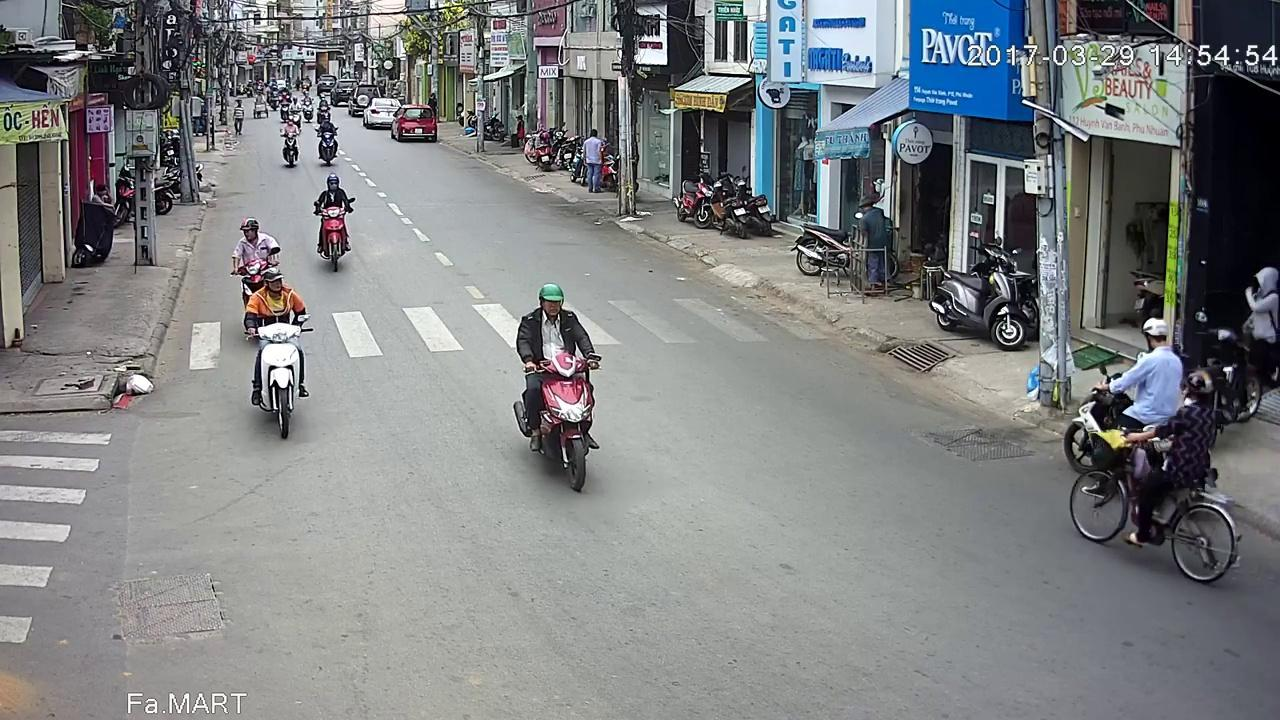xe dap: (1068, 374, 1241, 587)
xe hoi: (390, 104, 436, 141)
xe may: (1063, 315, 1183, 473), (511, 278, 601, 488), (240, 269, 312, 442), (311, 172, 355, 273), (228, 220, 280, 293), (314, 118, 341, 171), (281, 119, 302, 172)
